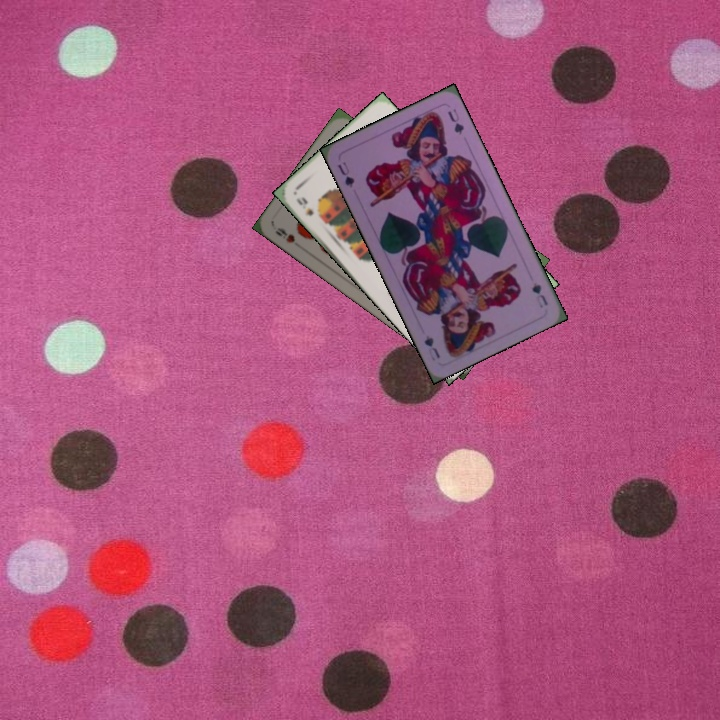GU: (528, 278, 551, 311), (334, 158, 357, 190)
H9: (271, 223, 298, 245)
S9: (292, 193, 316, 219)
